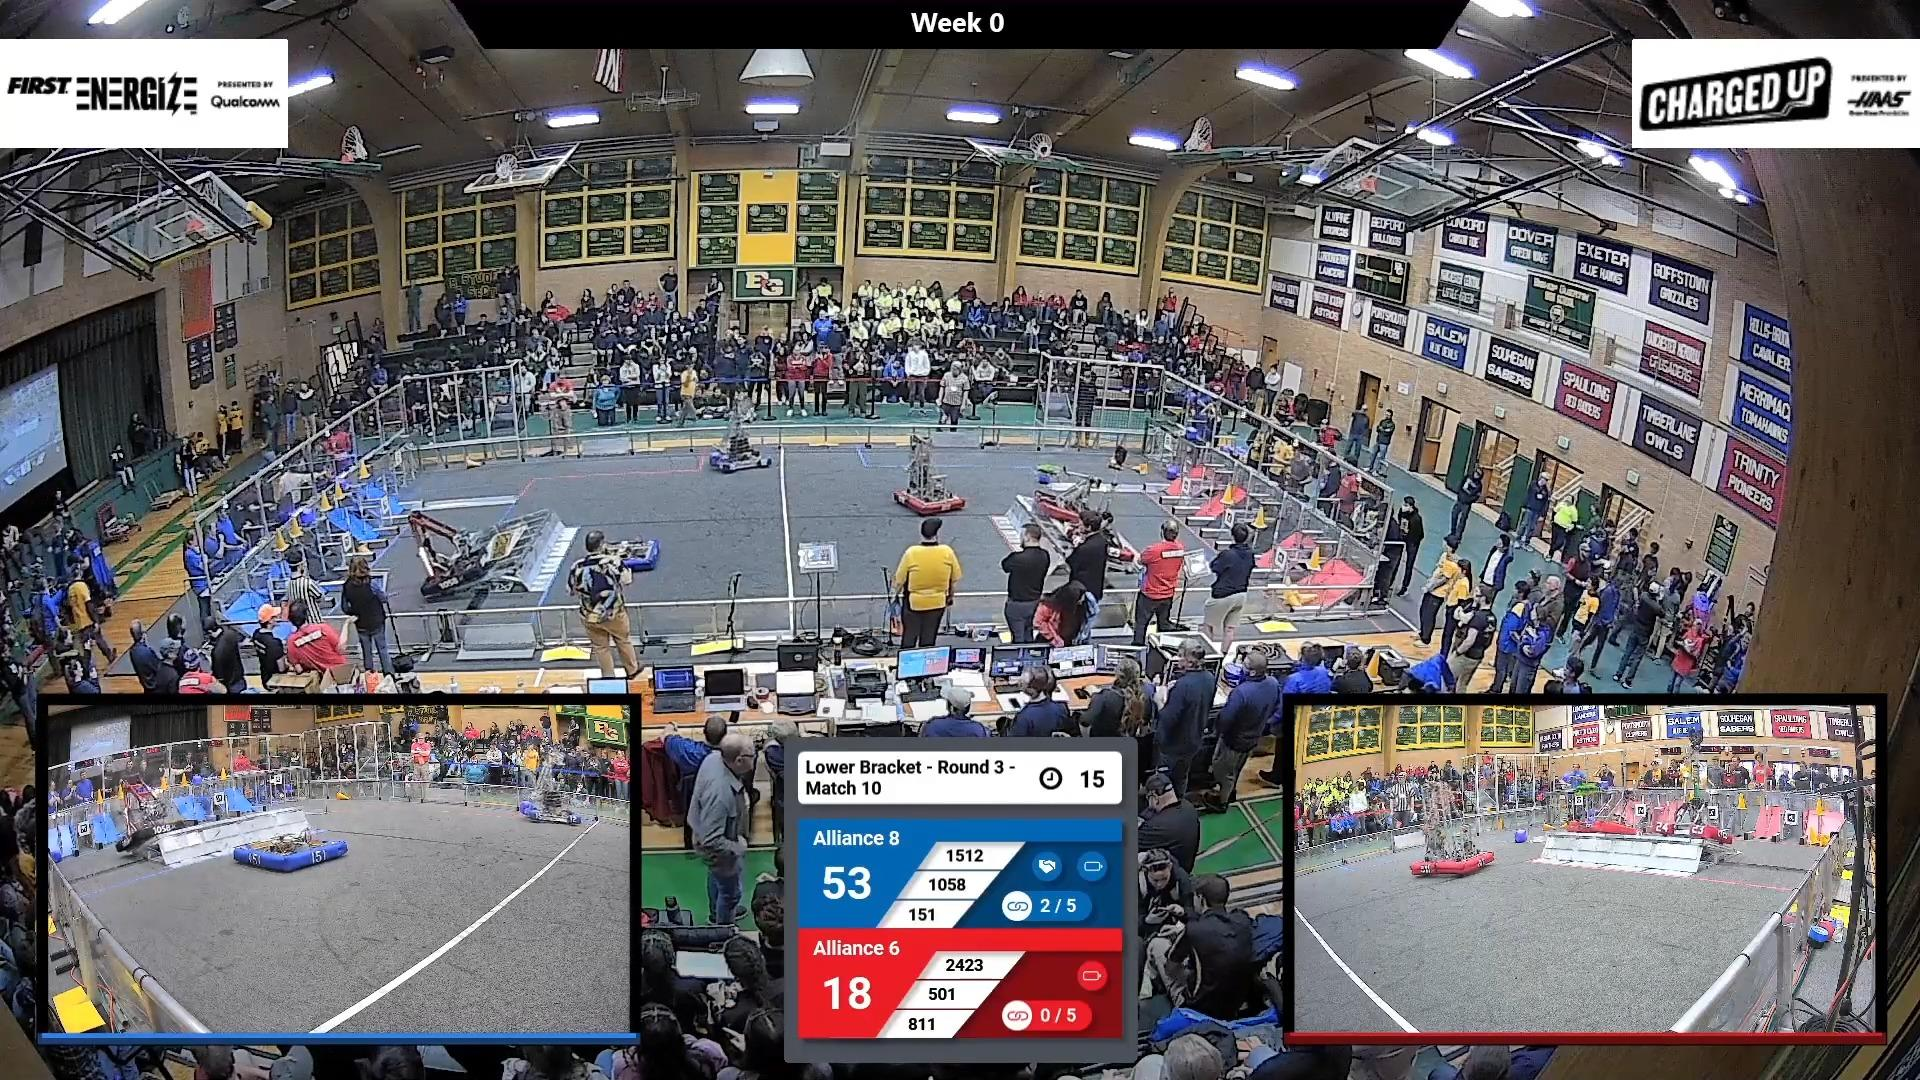robot: (405, 514, 496, 600), (889, 438, 968, 520), (1065, 498, 1137, 578), (696, 413, 777, 481), (1031, 460, 1108, 527), (588, 520, 667, 582)
